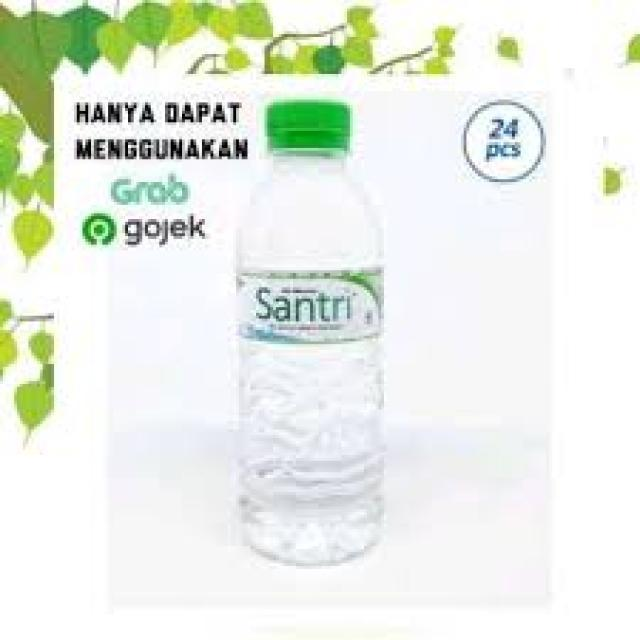good: (180, 99, 438, 589)
